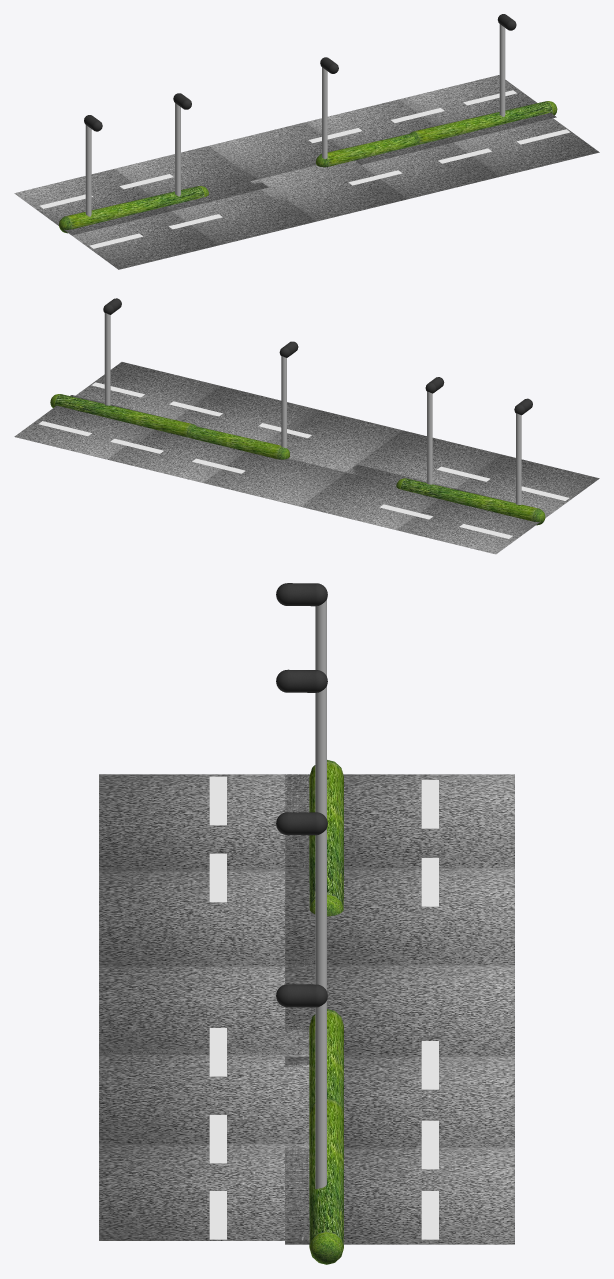
The model's file is street-ligths.obj.
The picture shows the model from 3 angles, top to bottom: view 1: azimuth 30°, elevation 25°; view 2: azimuth 150°, elevation 25°; view 3: azimuth 270°, elevation 25°; orthographic projection. The views are drawn at different scales.
Visible parts, largest first — view 1: Plane8, Plane2, Plane5, Plane9, Plane6, Plane7, Plane, Plane3, Plane4, Plane1, Capsule, Capsule2 (+5 smaller); view 2: Plane2, Plane8, Plane6, Plane, Plane7, Plane9, Plane3, Plane5, Plane4, Plane1, Capsule, Capsule2 (+5 smaller); view 3: Plane2, Plane9, Plane7, Plane4, Plane5, Plane6, Plane, Plane3, Plane8, Plane1, Capsule2, Capsule (+18 smaller).
Boxes of the visible parts, x1,y1,x2,y2 form: Plane8: (250, 160, 407, 221); Plane2: (114, 146, 268, 211); Plane5: (72, 211, 218, 269); Plane9: (448, 114, 599, 176); Plane6: (172, 189, 316, 245); Plane7: (362, 139, 499, 199); Plane: (209, 121, 362, 179); Plane3: (14, 169, 171, 235); Plane4: (399, 75, 556, 141); Plane1: (305, 98, 460, 164); Capsule: (59, 186, 208, 233); Capsule2: (410, 101, 557, 143); Plane2: (300, 464, 453, 529); Plane8: (266, 408, 402, 472); Plane6: (345, 430, 501, 488); Plane: (203, 451, 345, 507); Plane7: (175, 386, 319, 443); Plane9: (74, 362, 220, 419); Plane3: (396, 488, 549, 554); Plane5: (456, 454, 599, 517); Plane4: (14, 395, 161, 459); Plane1: (107, 425, 245, 482); Capsule: (396, 478, 545, 525); Capsule2: (50, 394, 196, 436); Plane2: (285, 868, 514, 965); Plane9: (99, 1143, 309, 1240); Plane7: (99, 1047, 309, 1144); Plane4: (285, 1147, 514, 1244); Plane5: (99, 774, 309, 871); Plane6: (99, 869, 328, 966); Plane: (285, 963, 514, 1056); Plane3: (285, 774, 514, 869); Plane8: (99, 966, 310, 1054); Plane1: (285, 1056, 514, 1147); Capsule2: (309, 1097, 343, 1264); Capsule: (309, 760, 343, 916).
Size of the model in its own units: 19.79 by 4.47 by 7.23.
